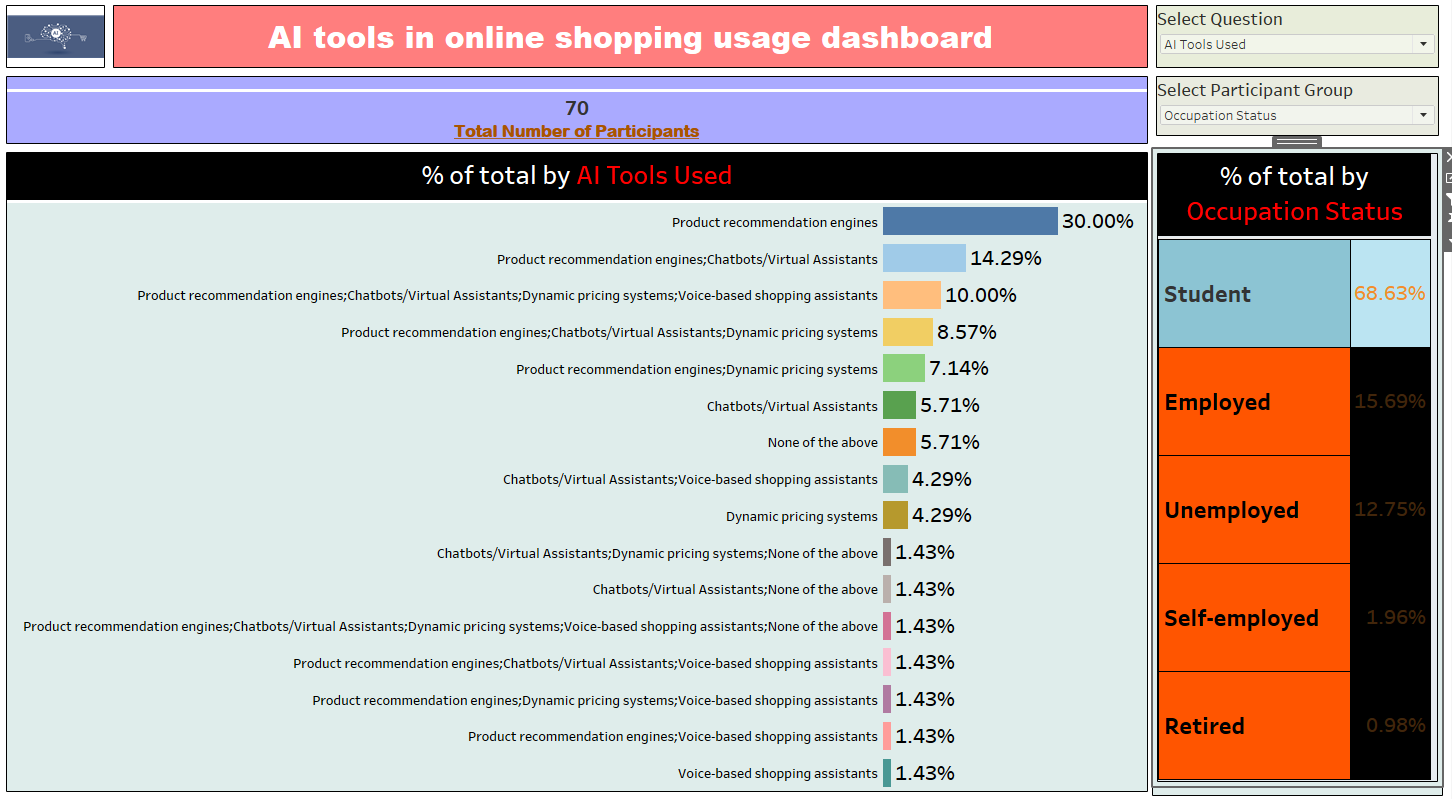

The page's visual inventory and layout, read from the dashboard file:
{"tool":"tableau","page":{"name":"Dashboard","canvas":[1000,1000],"units":"permille","ordinal":0},"visuals":[{"type":"image","param":"Image/images.png","box":[4.2,9.9,77.9,87.5]},{"type":"text","box":[82.1,9.9,759.5,87.5]},{"type":"parameter","param":"[Parameters].[Parameter 1]","box":[841.6,9.9,154.1,87.5]},{"type":"worksheet","title":"Total No of Participants","mark":"Automatic","box":[4.2,97.4,837.4,93.7]},{"type":"parameter","param":"[Parameters].[Parameter 2]","box":[841.6,97.4,154.1,83.8]},{"type":"worksheet","title":"Parameter by % of total","mark":"Automatic","rows":["Calculation_699183897261547525"],"cols":["The Influence of AI in E-Commerce.csv_0D54B13139EB4AE488B1F7"],"box":[4.2,191.1,837.4,799]},{"type":"worksheet","title":"Participant Group","mark":"Automatic","rows":["Calculation_665969855279251457"],"box":[842.2,192.3,153.1,785.5]}]}

Visuals, with their boxes on the dashboard's canvas, which has no fixed pixel size, in thousandths of its width and height (x1, y1, x2, y2). These are canvas units, not pixel positions in the 1452x799 screenshot, which may show the page scaled, cropped or inside an application window:
image: {"left": 4, "top": 10, "right": 82, "bottom": 97}
text: {"left": 82, "top": 10, "right": 842, "bottom": 97}
parameter: {"left": 842, "top": 10, "right": 996, "bottom": 97}
"Total No of Participants" worksheet: {"left": 4, "top": 97, "right": 842, "bottom": 191}
parameter: {"left": 842, "top": 97, "right": 996, "bottom": 181}
"Parameter by % of total" worksheet: {"left": 4, "top": 191, "right": 842, "bottom": 990}
"Participant Group" worksheet: {"left": 842, "top": 192, "right": 995, "bottom": 978}
